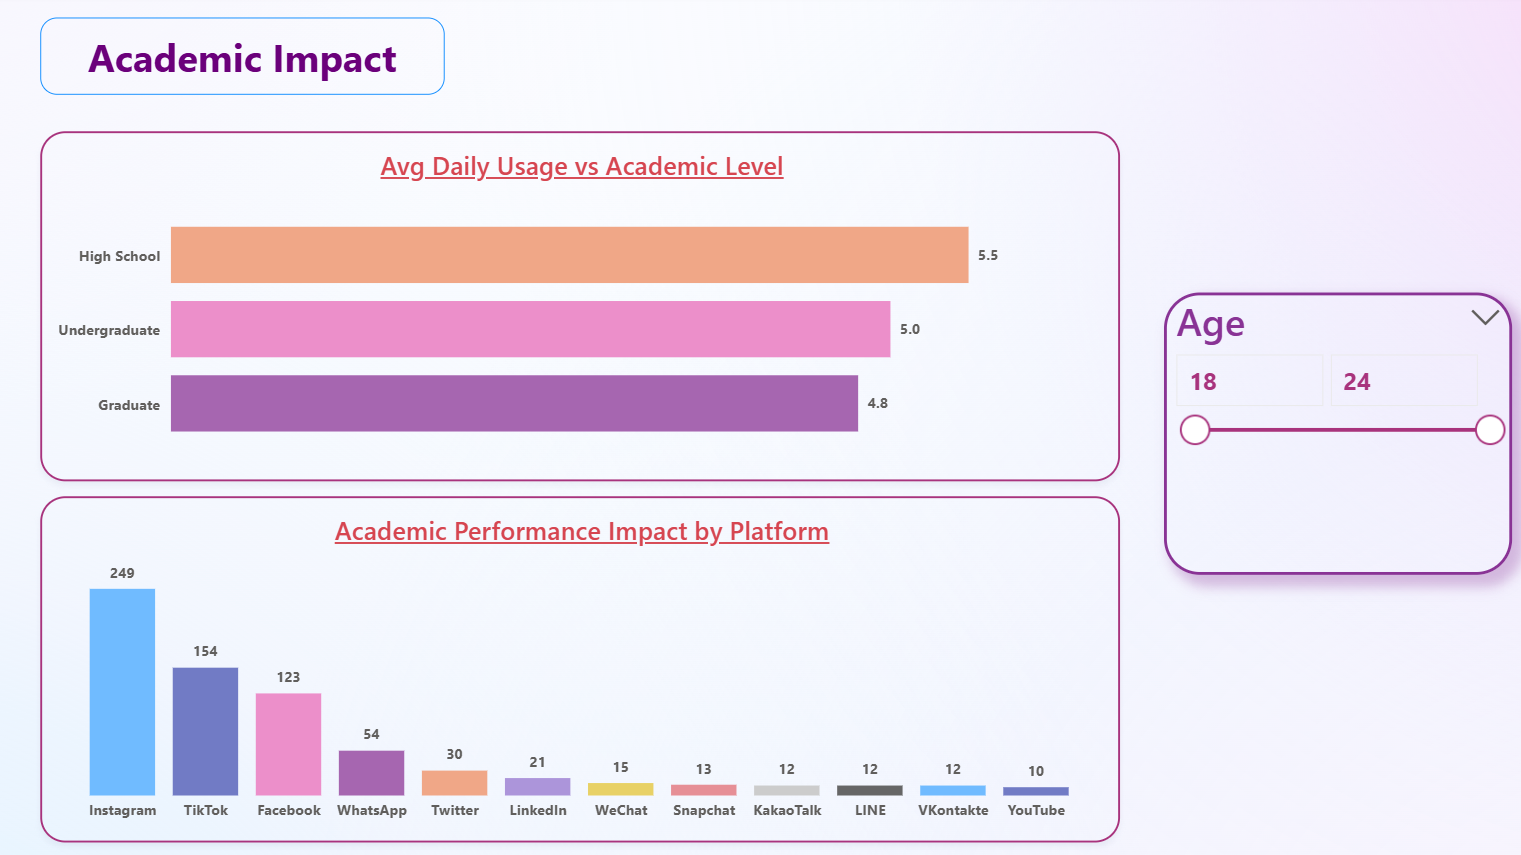

The dashboard page shown, as its layout file describes it:
{"tool":"powerbi","page":{"name":"Academic Impact","canvas":[1280,720],"ordinal":2},"visuals":[{"type":"barChart","title":"Avg Daily Usage vs Academic Level","fields":{"Y":["Student Details.Avg Usage Hours"],"Category":["Student Details.Academic_Level"]},"box":[35.1,109.7,905.7,294],"z":0},{"type":"columnChart","title":"Academic Performance Impact by Platform","fields":{"Category":["Student Details.Platform Details.Most_Used_Platform"],"Y":["CountNonNull(Student Details.Platform Details.Affects_Academic_Performance)"]},"box":[35.1,416.1,905.7,290.6],"z":1000},{"type":"slicer","fields":{"Values":["Student Details.Age"]},"box":[976.8,244.9,291.9,236.6],"z":2000},{"type":"textbox","box":[35.1,14.7,339.2,64.4],"z":2001}]}

Visuals, with their boxes in screenshot pixels (x1, y1, x2, y2), scaled from the page's 1280x720 canvas onto the 1521x855 screenshot:
"Avg Daily Usage vs Academic Level" barChart: locate(42, 130, 1118, 479)
"Academic Performance Impact by Platform" columnChart: locate(42, 494, 1118, 839)
slicer - Student Details.Age: locate(1161, 291, 1508, 572)
textbox: locate(42, 17, 445, 94)
